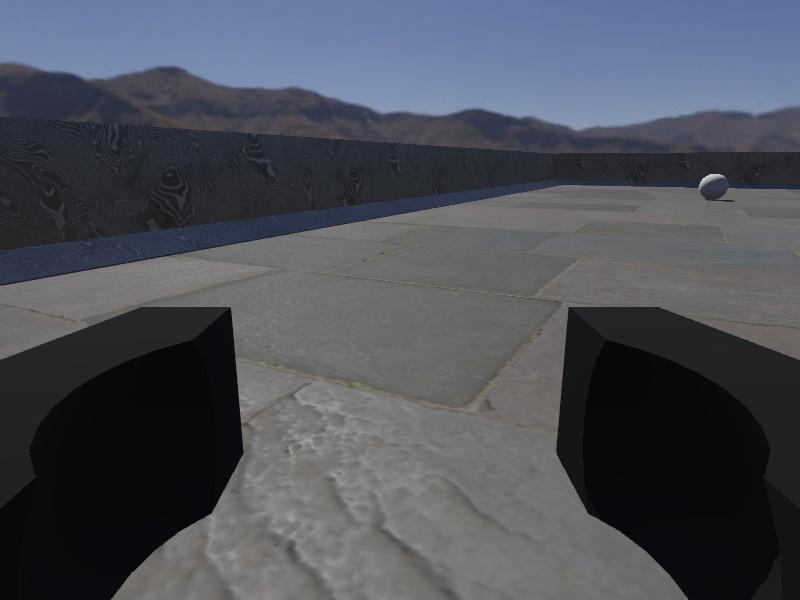white ball: (698, 172, 729, 202)
